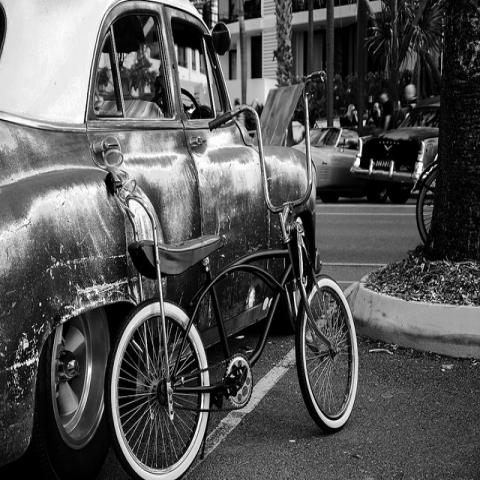car: (1, 7, 309, 476), (349, 93, 441, 206), (291, 127, 391, 205)
